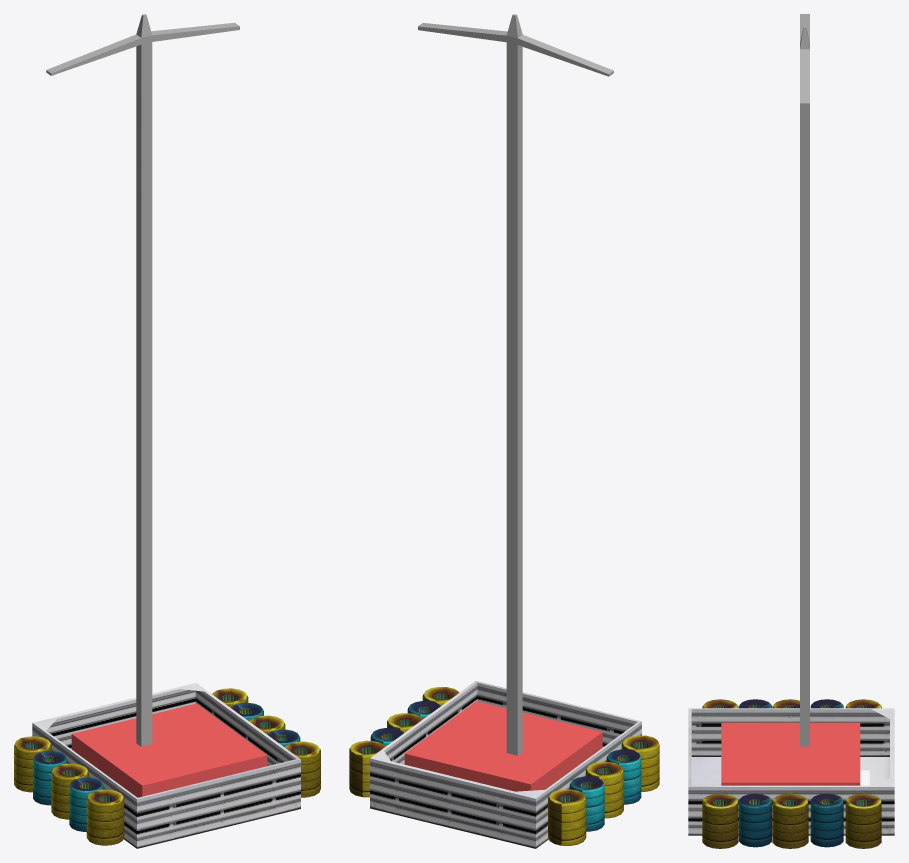
Rendered from Tir.fbx.
3 renders of one model, left to right at view 1: azimuth 30°, elevation 25°; view 2: azimuth 150°, elevation 25°; view 3: azimuth 270°, elevation 25°, orthographic. The views are drawn at different scales.
Visible parts, largest first — view 1: GameObject_x0020_6; view 2: GameObject_x0020_6; view 3: GameObject_x0020_6.
Part boxes in pixels (bbox=[...]): GameObject_x0020_6: bbox=[14, 14, 320, 848]; GameObject_x0020_6: bbox=[349, 14, 659, 848]; GameObject_x0020_6: bbox=[688, 14, 894, 848].
Size of the model in its own units: 8.57 by 27.88 by 6.78.
4 materials, 2 textured.
